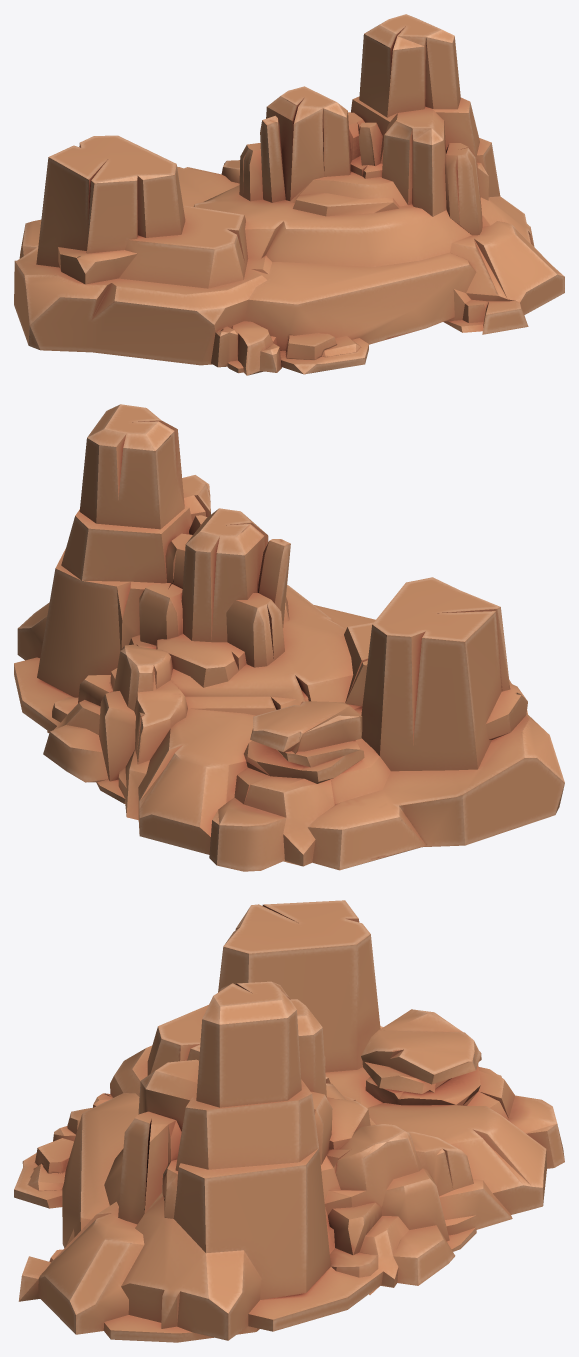
The model's file is FBX Item -Rock01.fbx.
3 views of the same model, one above another, from view 1: azimuth 30°, elevation 25°; view 2: azimuth 150°, elevation 25°; view 3: azimuth 270°, elevation 25° (orthographic). The views are drawn at different scales.
Parts seen in each view (by area): view 1: Rock_1; view 2: Rock_1; view 3: Rock_1.
Boxes of the visible parts, x1,y1,x2,y2 form: Rock_1: (14, 14, 564, 375); Rock_1: (14, 404, 564, 871); Rock_1: (14, 900, 564, 1342).
Bounding box in the file's own units: 2600 × 1284 × 2107.
